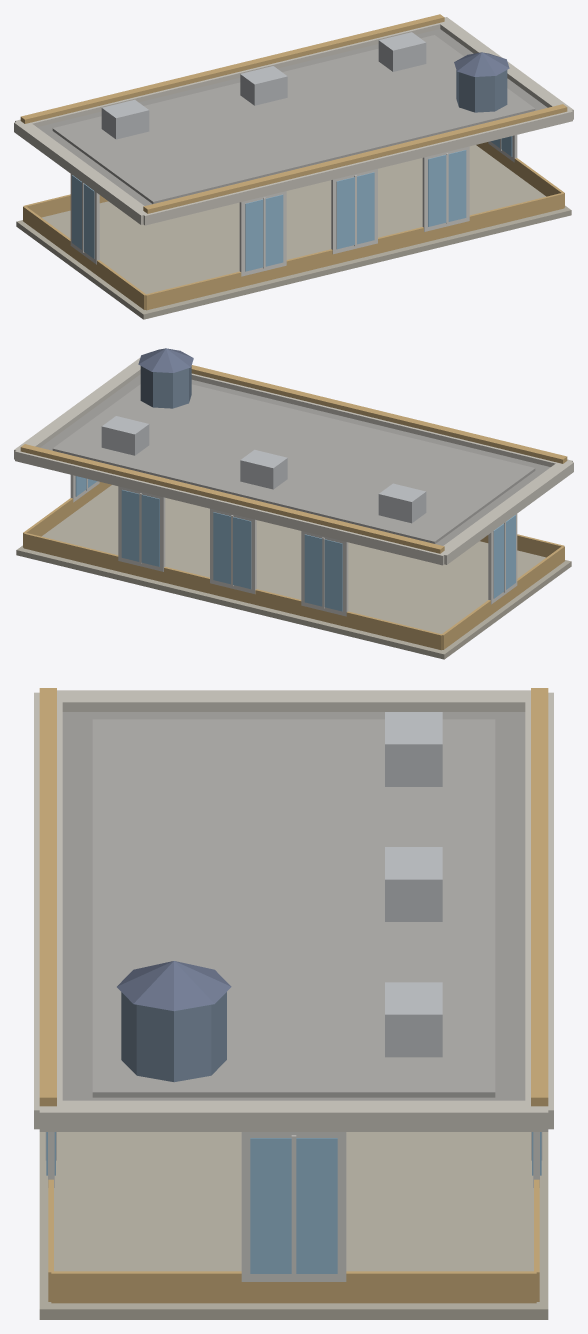
Rendered from facade_hostel_a.glb.
3 renders of one model, top to bottom at view 1: azimuth 30°, elevation 25°; view 2: azimuth 150°, elevation 25°; view 3: azimuth 270°, elevation 25°, orthographic. The views are drawn at different scales.
Bounding box in the file's own units: 10.42 × 3.5 × 5.42.
